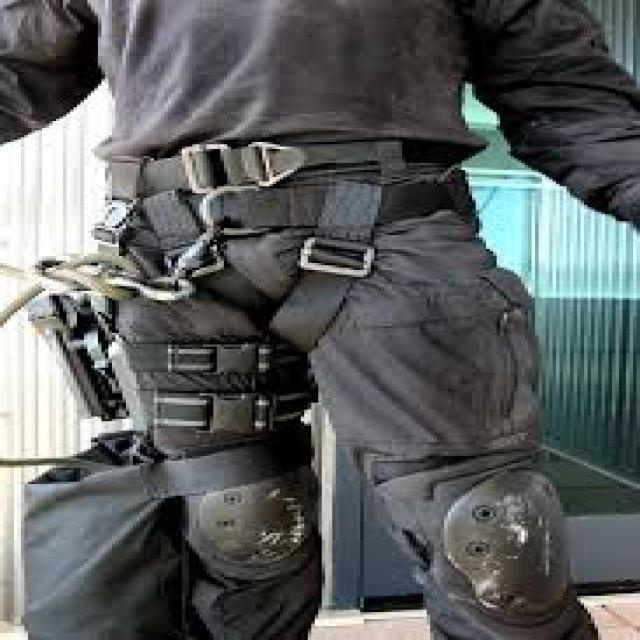Arnes_seguridad: (43, 126, 531, 441)
